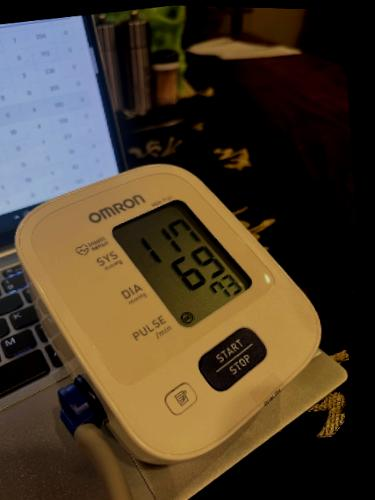bpm: (103, 176, 256, 336)
